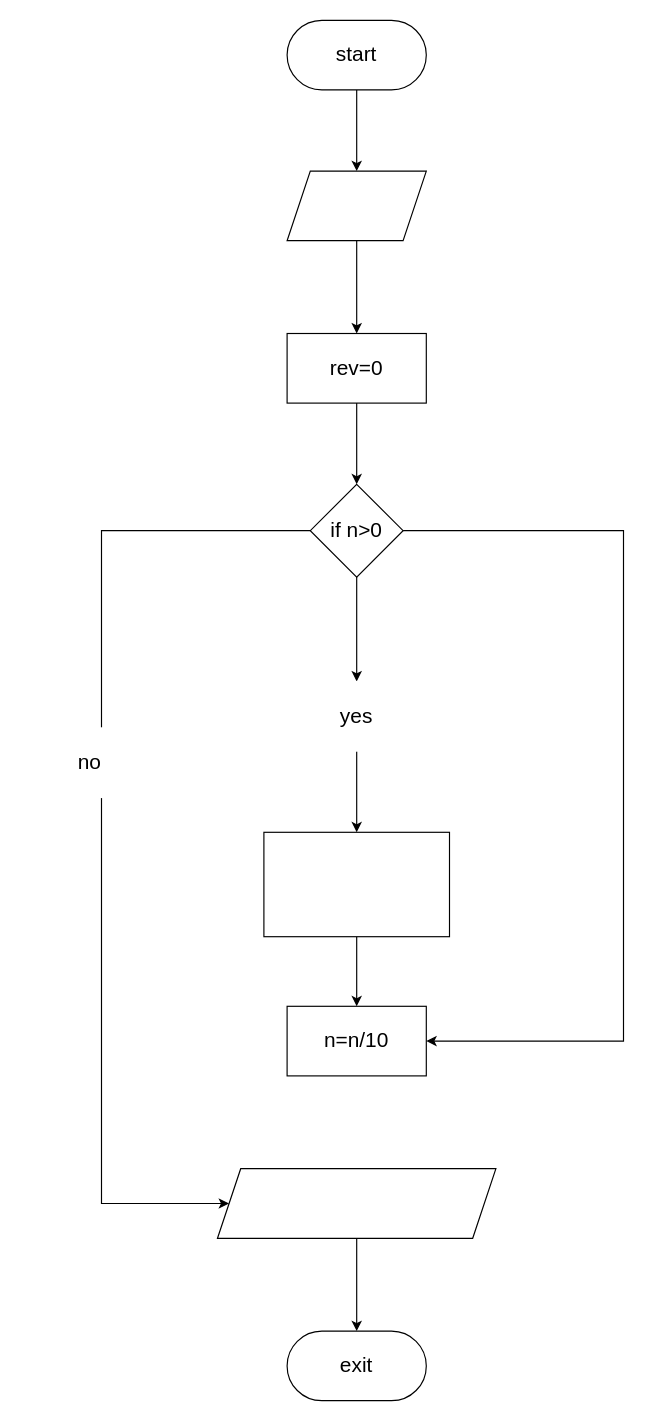
Image size: 653x1421. Some labels were removed from this diagram. Here are the shapes that lost their labels. From the top down, the centre of each, then its label:
[356,205]: read n
[356,884]: rem=n%10 rev=rev*10+rem
[356,1203]: print the reverse number
